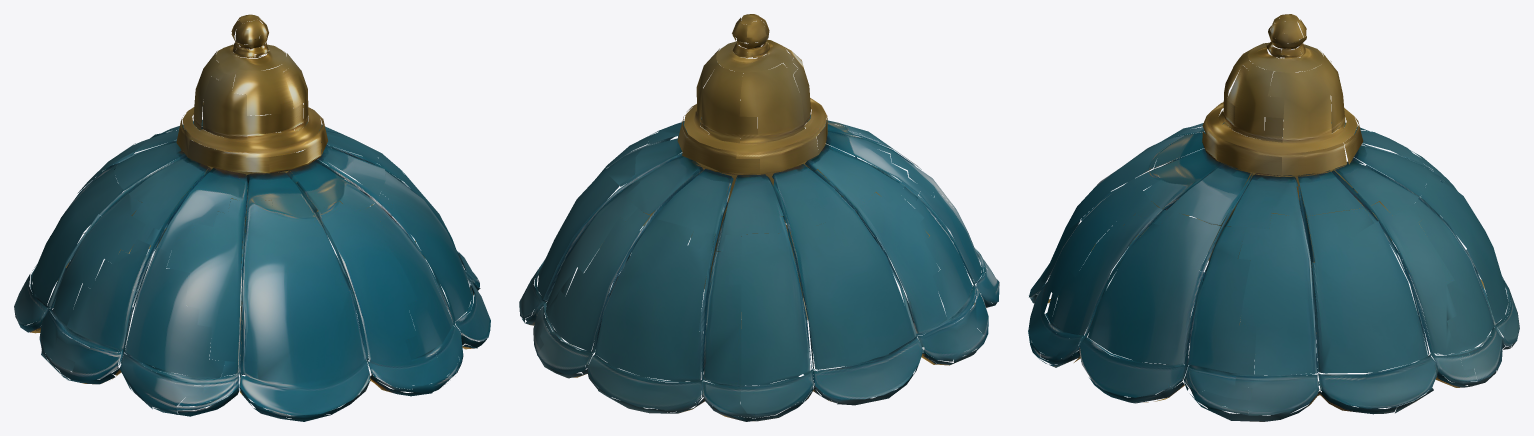
3 views of the same model, side by side, from view 1: azimuth 30°, elevation 25°; view 2: azimuth 150°, elevation 25°; view 3: azimuth 270°, elevation 25° (orthographic). The views are drawn at different scales.
Visible parts, largest first — view 1: a03_Scalloped_pendant; view 2: a03_Scalloped_pendant; view 3: a03_Scalloped_pendant.
Part boxes in pixels (box(x1,y1,x2,y2)): a03_Scalloped_pendant: box(14, 14, 490, 421); a03_Scalloped_pendant: box(519, 14, 999, 421); a03_Scalloped_pendant: box(1028, 14, 1519, 421).
Size of the model in its own units: 0.5921 by 0.4602 by 0.6007.
1 material, 1 textured.
